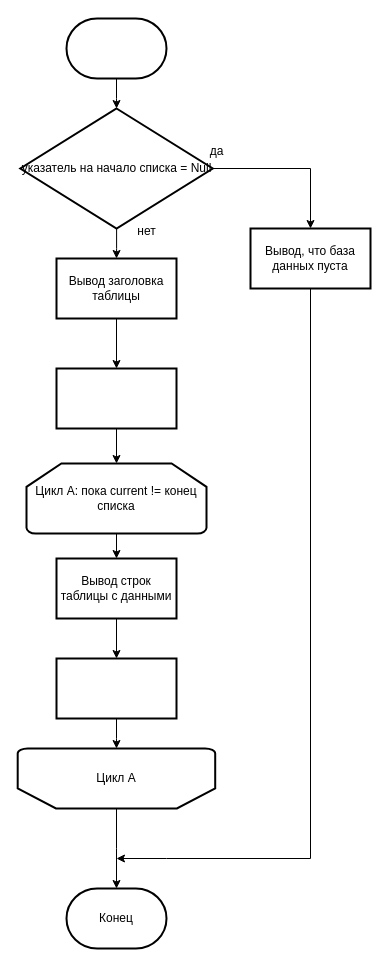
This 389x966 diagram has some shape labels left out. The centre of each missing label's shape, as x and y in pixels:
"Начало" goes at (116,48).
"Переход к следующему элементу списка через next" goes at (116,688).
"Указатель current = начало списка" goes at (116,398).
